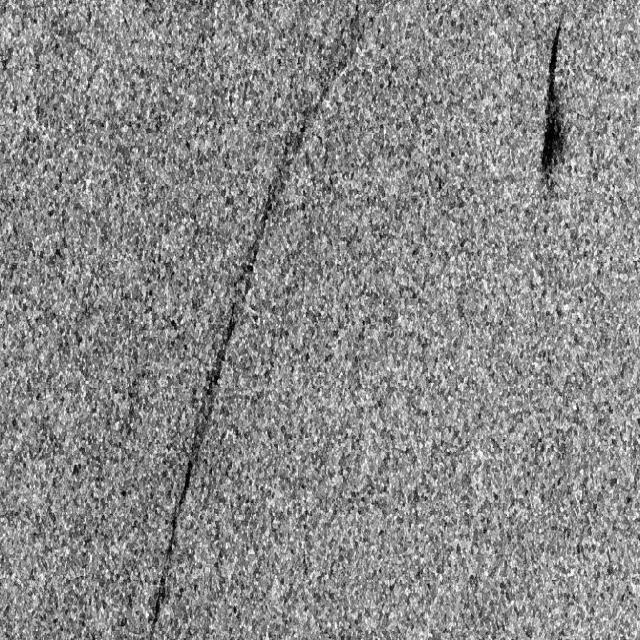look-alike: (220, 25, 368, 329), (142, 325, 234, 630)
oil-spill: (534, 23, 578, 197)
